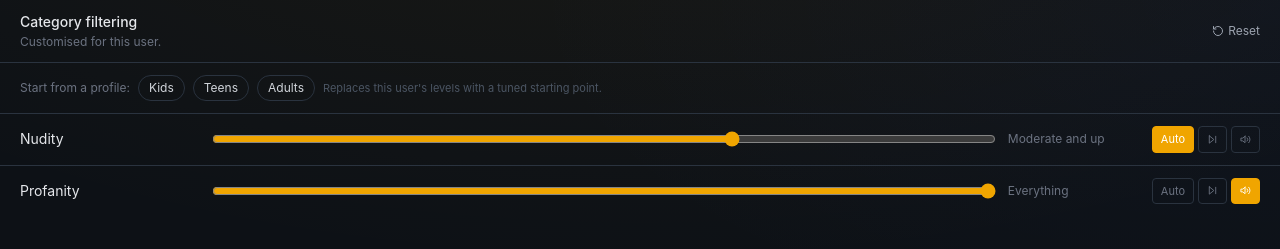
Test case: CategoryMatrix › surfaces a save failure instead of showing a change that did not persist
Set the slider next to "Moderate and up" to "0" at [220, 139], box [212,131,996,147]
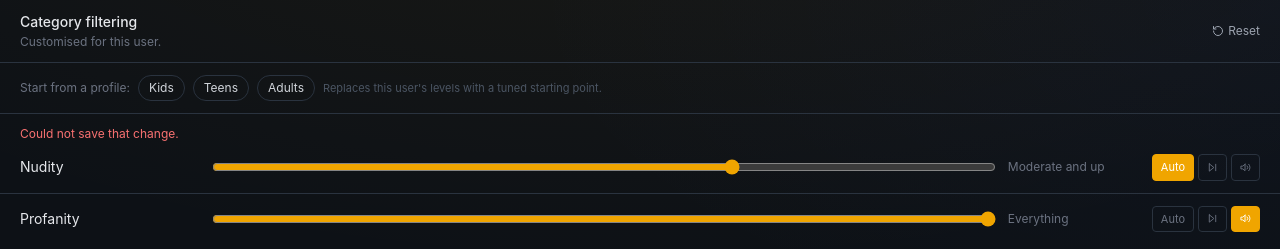
expect the text "Could not save that change." is shown: met, box [20,126,179,141]
